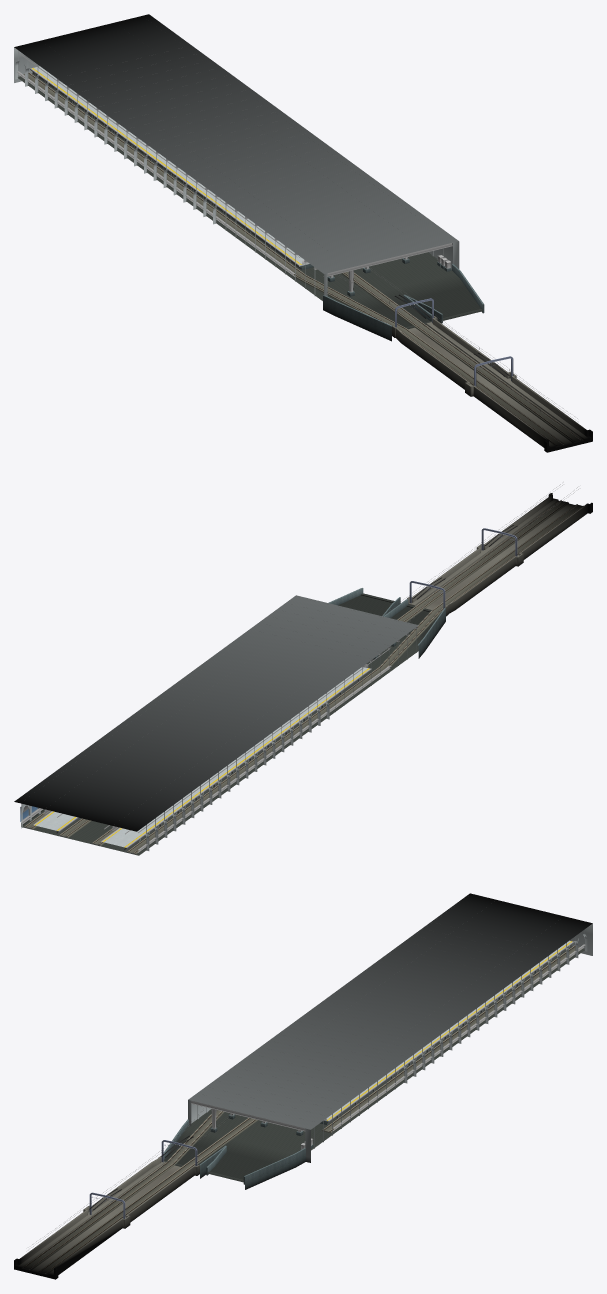
The model's file is HT_TAKARA_ST.glb.
3 views of the same model, one above another, from view 1: azimuth 30°, elevation 25°; view 2: azimuth 150°, elevation 25°; view 3: azimuth 330°, elevation 25° (orthographic). The views are drawn at different scales.
Parts seen in each view (by area): view 1: obj6; view 2: obj6; view 3: obj6.
Boxes of the visible parts, box(x1,y1,x2,y2) form: obj6: box(14, 14, 592, 452); obj6: box(14, 484, 592, 855); obj6: box(14, 893, 592, 1279).
Bounding box in the file's own units: 100 × 25.47 × 653.
10 materials, 9 textured.
